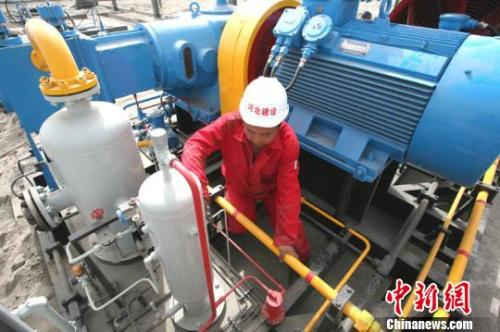hard-hat: (239, 75, 289, 128)
person: (180, 74, 312, 264)
ppe-suit: (180, 110, 312, 259)
